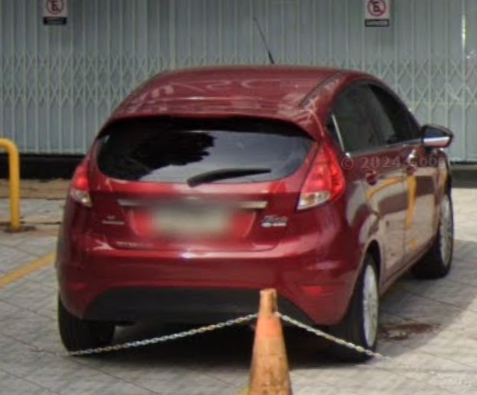car: (52, 63, 462, 360)
